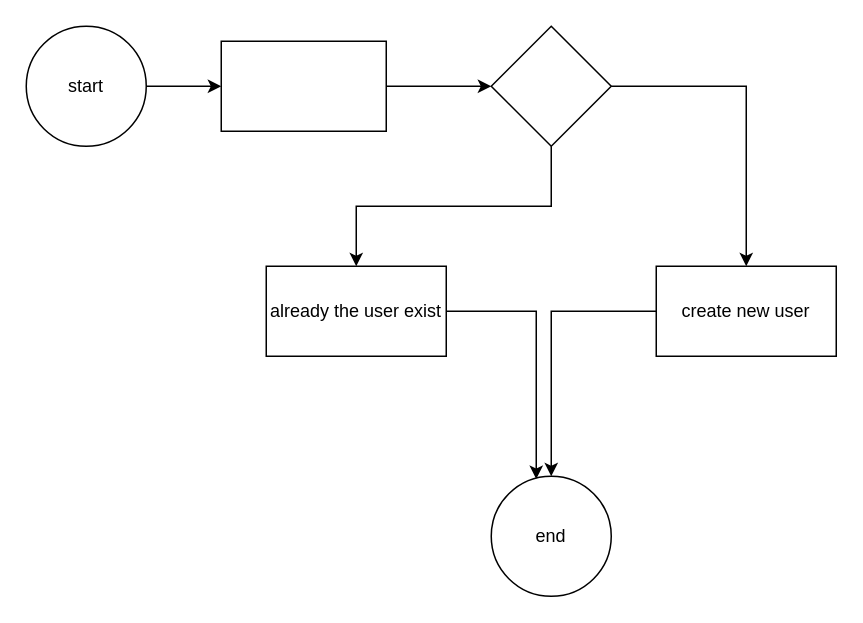
Image size: 863x623. Some labels were removed from this diagram. Each missing label, with the centre of its shape:
add user: (x=303, y=85)
exist: (x=550, y=85)
